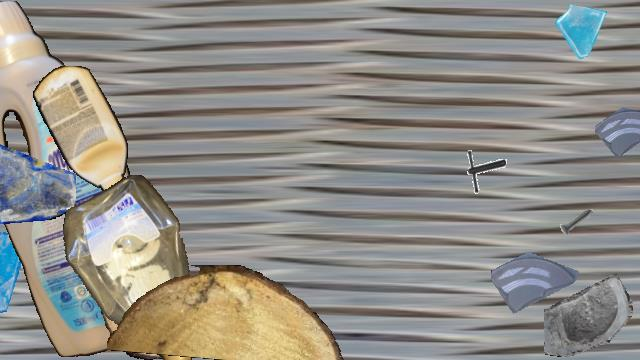glass: (544, 271, 632, 359), (491, 234, 579, 322), (0, 130, 76, 224), (554, 1, 612, 59), (595, 91, 640, 163), (0, 232, 29, 316)
metal: (97, 150, 159, 212), (458, 147, 506, 195), (556, 201, 598, 243)
plastic: (0, 1, 178, 357), (58, 175, 204, 359), (33, 66, 127, 194)
wood: (107, 265, 347, 359), (99, 253, 175, 359)
